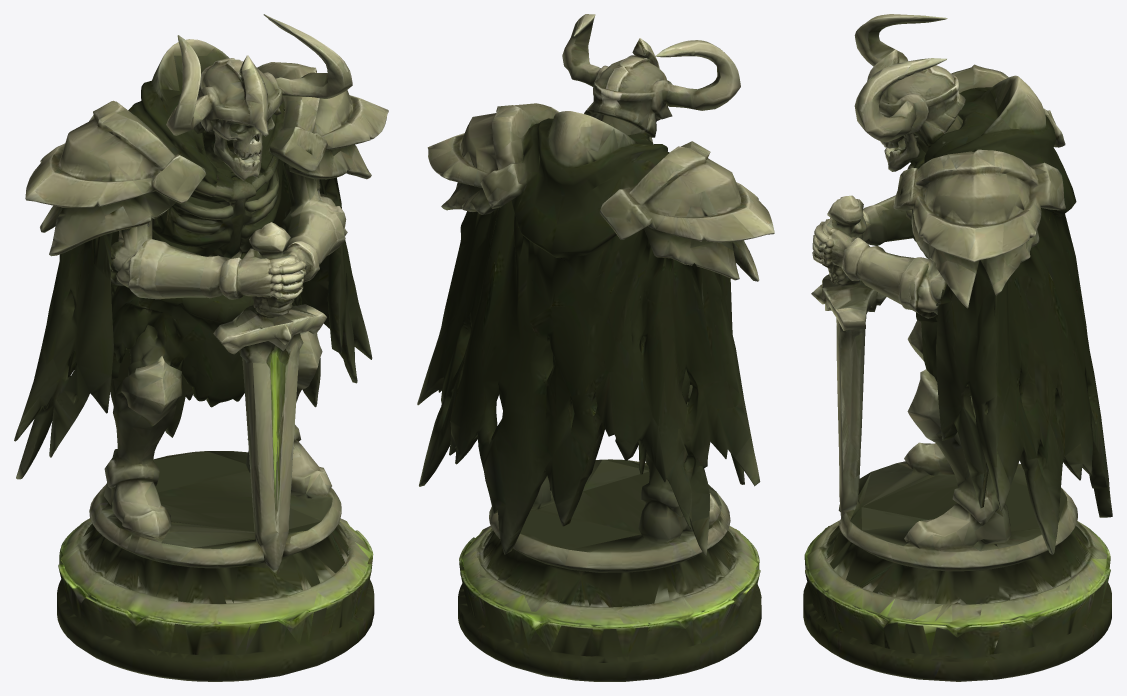
File: death_knight.glb
3 views of the same model, side by side, from view 1: azimuth 30°, elevation 25°; view 2: azimuth 150°, elevation 25°; view 3: azimuth 270°, elevation 25° (orthographic). The views are drawn at different scales.
Parts seen in each view (by area): view 1: Mesh_0; view 2: Mesh_0; view 3: Mesh_0.
Boxes of the visible parts, box(x1,y1,x2,y2) form: Mesh_0: box(14, 14, 388, 681); Mesh_0: box(417, 14, 774, 681); Mesh_0: box(803, 14, 1112, 681).
Bounding box in the file's own units: 0.636 × 1 × 0.4827.
Materials: 1 (1 with a texture image).
